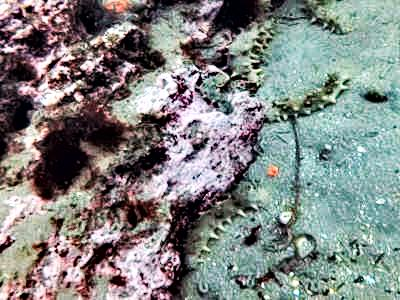urchin: (224, 2, 261, 28)
